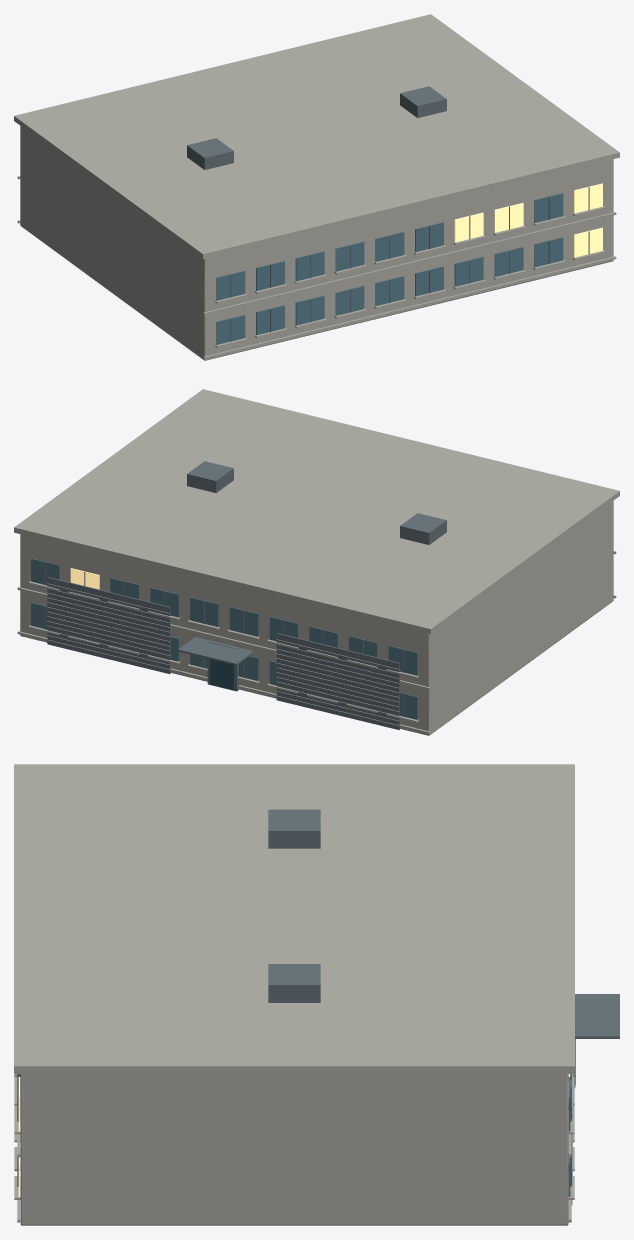
Rendered from Warehouse.fbx.
3 views of the same model, one above another, from view 1: azimuth 30°, elevation 25°; view 2: azimuth 150°, elevation 25°; view 3: azimuth 270°, elevation 25° (orthographic). The views are drawn at different scales.
Visible parts, largest first — view 1: Warehouse_LOD; view 2: Warehouse_LOD; view 3: Warehouse_LOD.
Boxes of the visible parts, <box> form: Warehouse_LOD: <box>14,14,619,360</box>; Warehouse_LOD: <box>14,389,619,735</box>; Warehouse_LOD: <box>14,764,619,1225</box>.
Size of the model in its own units: 32.58 by 9.09 by 27.64.
